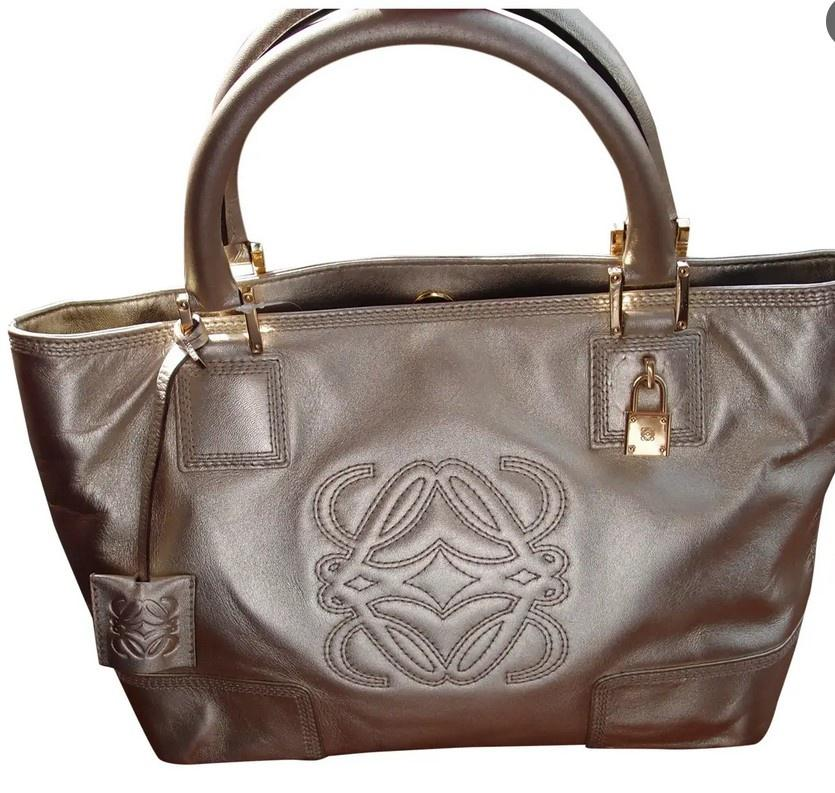LOEWE: (296, 433, 580, 719)
